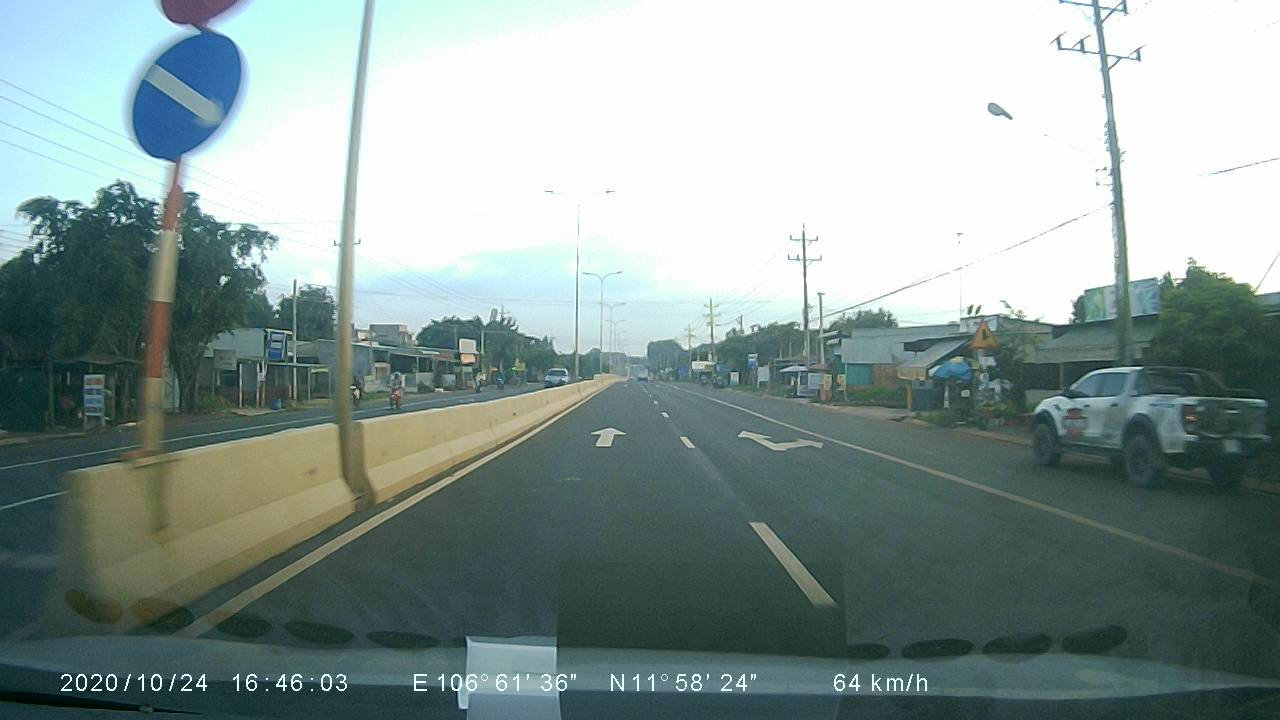Giao nhau voi duong khong uu tien: (968, 315, 1002, 351)
Huong di phai re phai: (122, 26, 250, 162)
